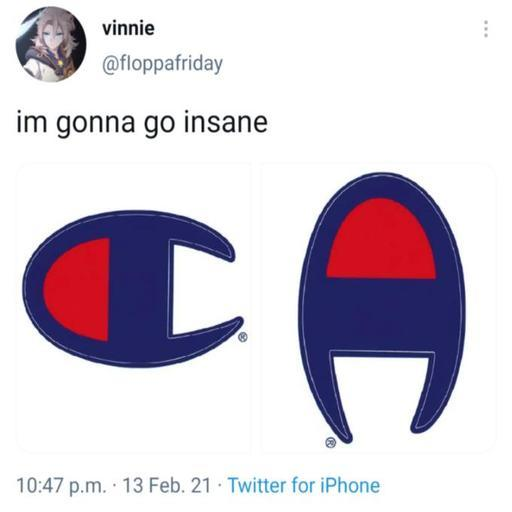Crewmate: (294, 170, 468, 445), (21, 208, 248, 370)
